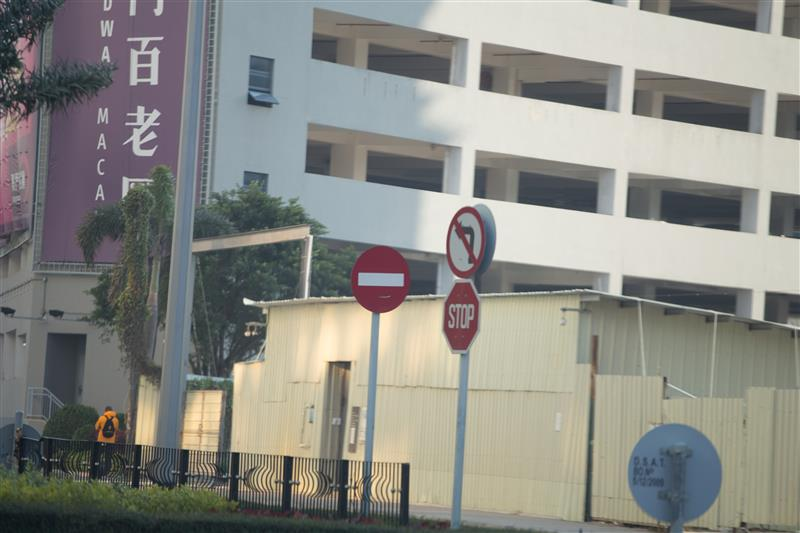noEntry: (350, 244, 410, 314)
noLeftTurn: (445, 206, 486, 279)
stop: (442, 279, 481, 353)
